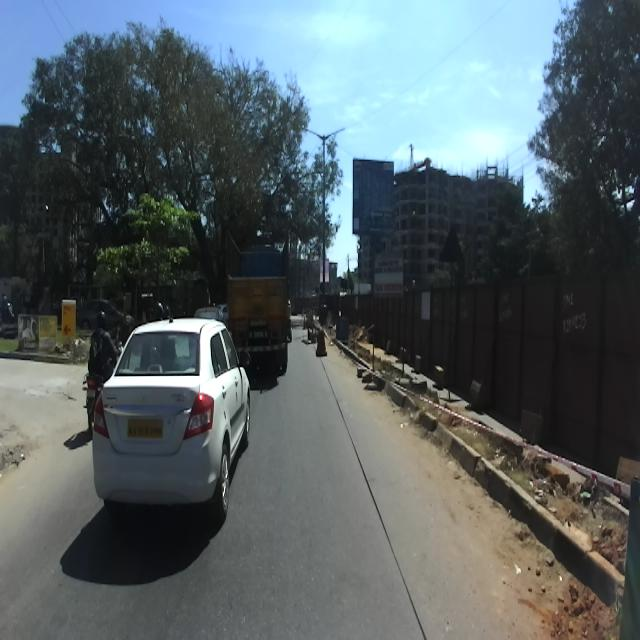car ahead at: (98, 310, 253, 541)
